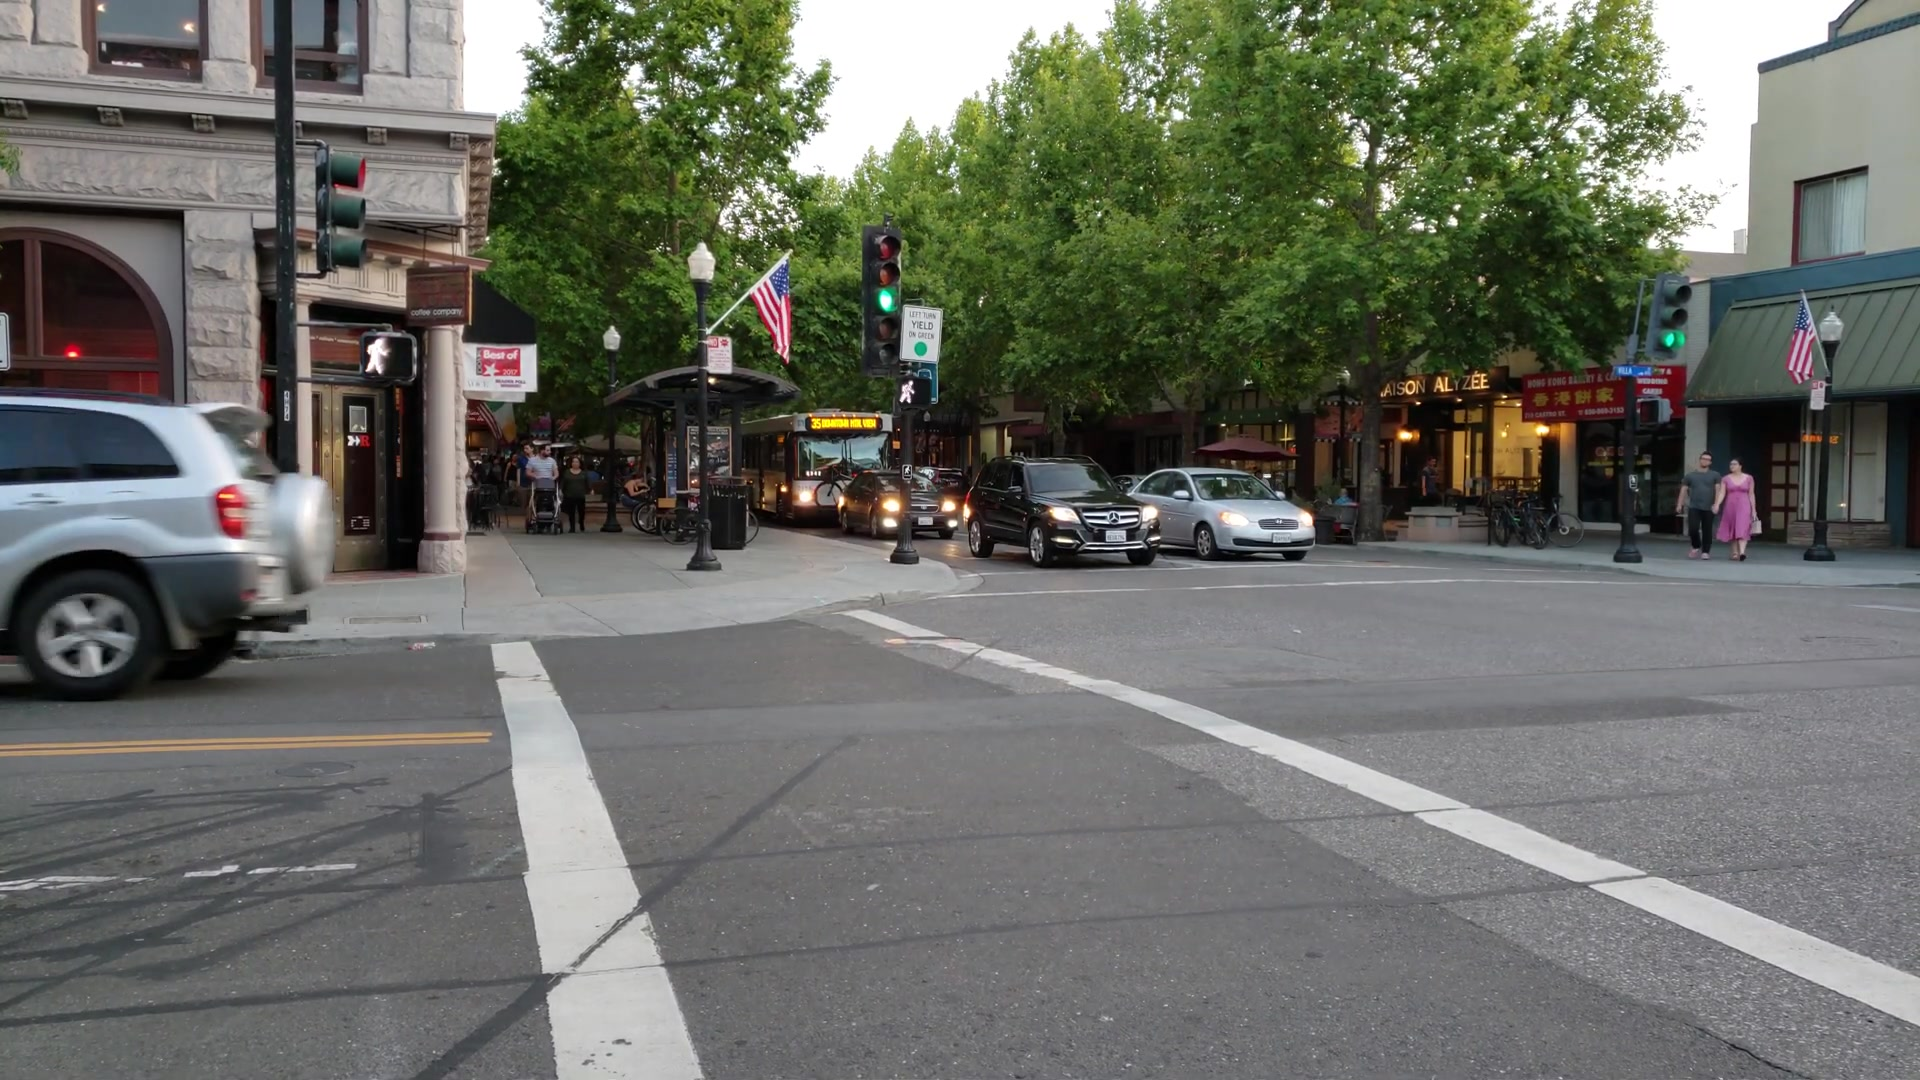vehicle: (964, 455, 1160, 566), (1134, 465, 1313, 560), (738, 417, 894, 524), (839, 469, 957, 541)
